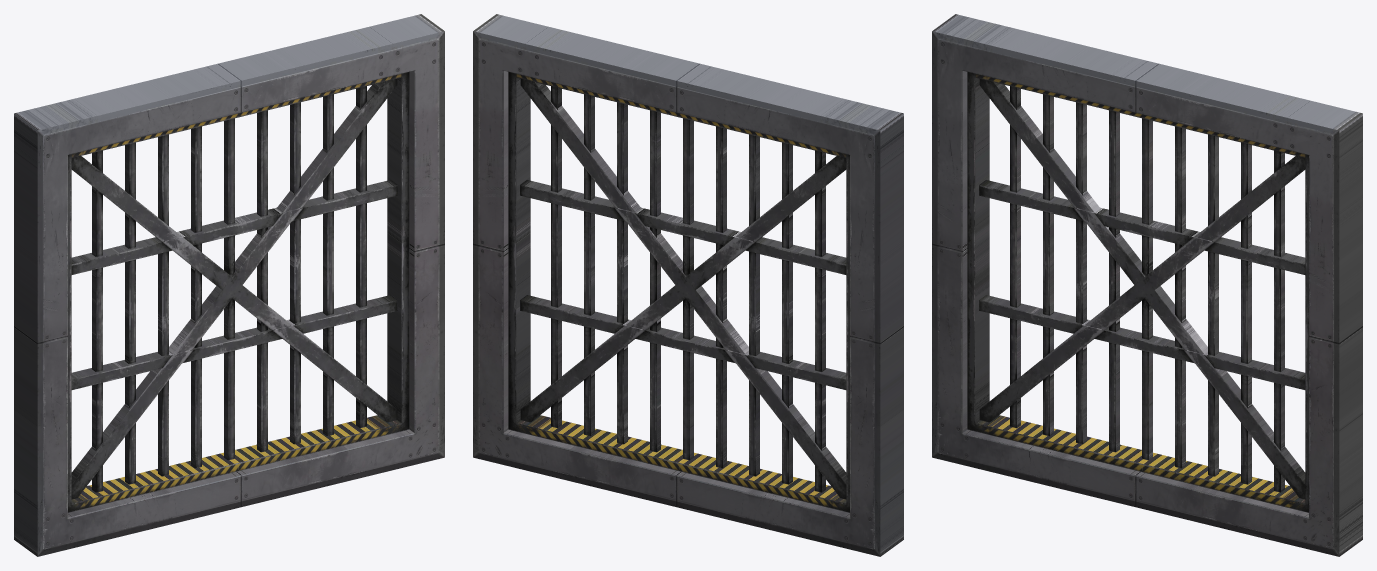
The model's file is kit_grate_wall.glb.
3 renders of one model, left to right at view 1: azimuth 30°, elevation 25°; view 2: azimuth 150°, elevation 25°; view 3: azimuth 330°, elevation 25°, orthographic.
Visible parts, largest first — view 1: kit_grate_wall; view 2: kit_grate_wall; view 3: kit_grate_wall.
Part boxes in pixels (x1=…): kit_grate_wall: x1=14, y1=14, x2=444, y2=556; kit_grate_wall: x1=473, y1=14, x2=903, y2=556; kit_grate_wall: x1=932, y1=14, x2=1362, y2=556.
Bounding box in the file's own units: 4 × 4 × 0.4.
Materials: 1 (1 with a texture image).
